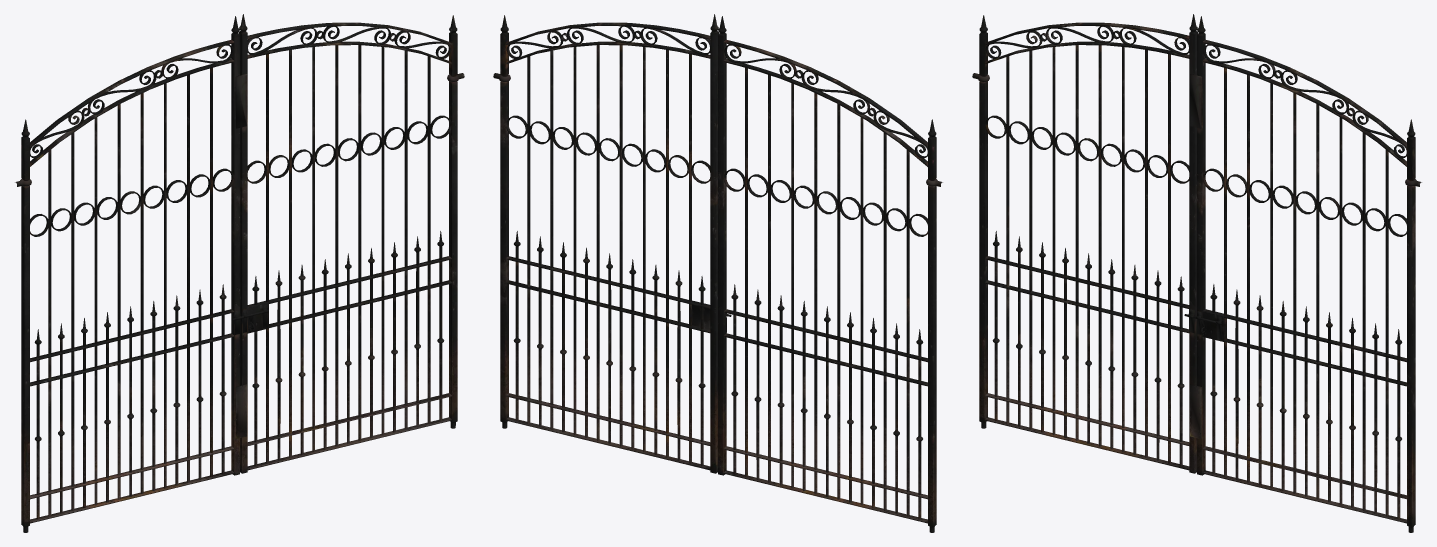
File: large_iron_gate.glb
3 views of the same model, side by side, from view 1: azimuth 30°, elevation 25°; view 2: azimuth 150°, elevation 25°; view 3: azimuth 330°, elevation 25° (orthographic).
Parts seen in each view (by area): view 1: large_iron_gate_right_door; view 2: large_iron_gate_right_door; view 3: large_iron_gate_right_door.
Boxes of the visible parts, x1=… form: large_iron_gate_right_door: x1=15, y1=14, x2=464, y2=532; large_iron_gate_right_door: x1=493, y1=14, x2=942, y2=532; large_iron_gate_right_door: x1=972, y1=14, x2=1421, y2=532.
Size of the model in its own units: 2.95 by 2.93 by 0.0974.
1 material, 1 textured.
